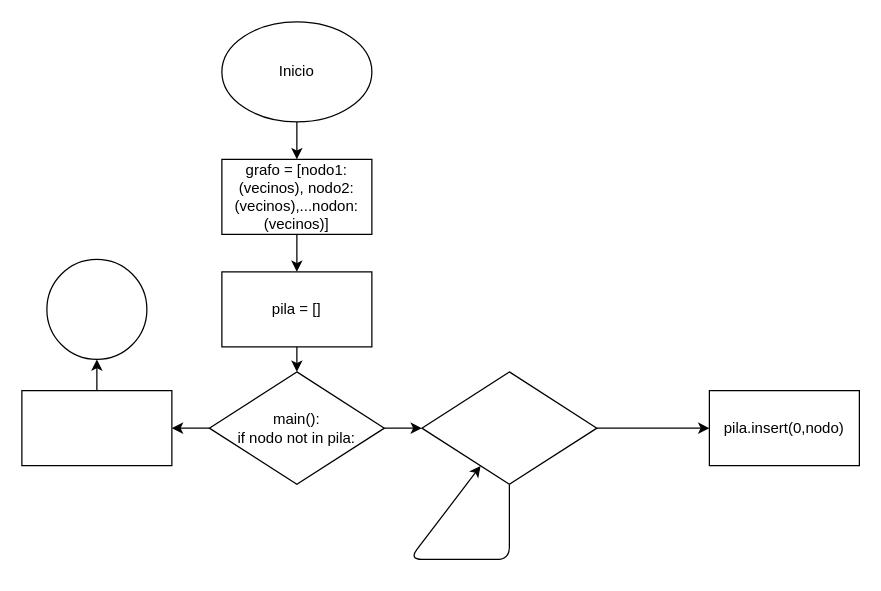
This 881x591 diagram has some shape labels left out. The box of each missing label's shape, as (x1, y1, x2, y2) in pixels:
ordenar(): if vecino not in pila:: (421, 371, 597, 484)
pila = [nodos ordenados}: (21, 389, 172, 466)
